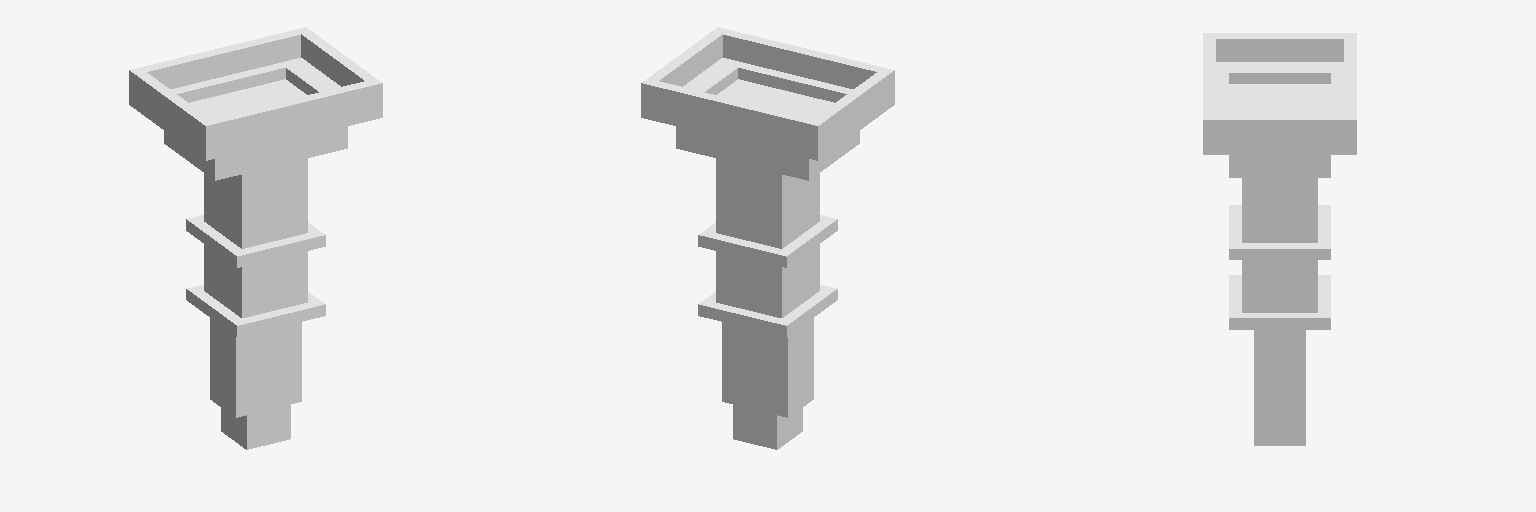
The model's file is Fackel.obj.
The picture shows the model from 3 angles: view 1: azimuth 30°, elevation 25°; view 2: azimuth 150°, elevation 25°; view 3: azimuth 270°, elevation 25°; orthographic projection.
Parts seen in each view (by area): view 1: object 1; view 2: object 1; view 3: object 1.
Boxes of the visible parts, x1=… form: object 1: x1=129, y1=27, x2=382, y2=449; object 1: x1=641, y1=27, x2=894, y2=449; object 1: x1=1203, y1=33, x2=1356, y2=445.
Size of the model in its own units: 1.6 by 3.1 by 1.2.